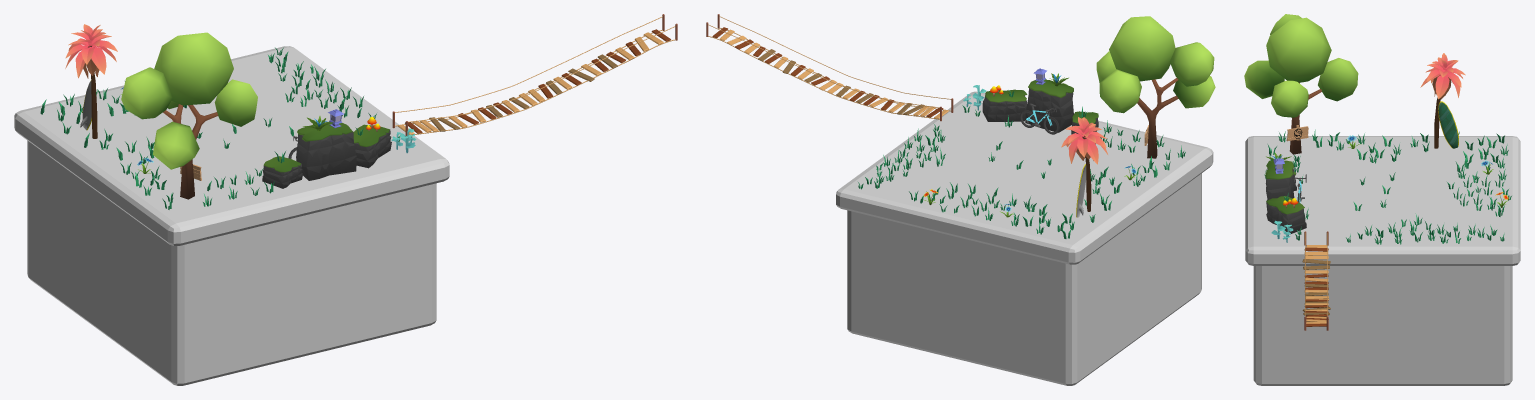
File: hobbies island.glb
3 renders of one model, left to right at view 1: azimuth 30°, elevation 25°; view 2: azimuth 150°, elevation 25°; view 3: azimuth 270°, elevation 25°, orthographic. The views are drawn at different scales.
Parts seen in each view (by area): view 1: Hobbys island, TreeR1_GRADIENT_0, ClifBg2_GRADIENT_0, TreeDC_GRADIENT_0, ClifBg2_GRADIENT_0.002, ClifBg2_GRADIENT_0.001, BezierCurve.002; view 2: Hobbys island, TreeR1_GRADIENT_0, ClifBg2_GRADIENT_0, TreeDC_GRADIENT_0, ClifBg2_GRADIENT_0.002, BezierCurve.002, Object_2; view 3: Hobbys island, TreeR1_GRADIENT_0, TreeDC_GRADIENT_0, ClifBg2_GRADIENT_0.002, ClifBg2_GRADIENT_0, Cube.002_prancha2_0, Petit panneau.004.
Part boxes in pixels (left/top/right/bottom): Hobbys island: left=14, top=46, right=449, bottom=385; TreeR1_GRADIENT_0: left=121, top=32, right=257, bottom=199; ClifBg2_GRADIENT_0: left=296, top=121, right=356, bottom=180; TreeDC_GRADIENT_0: left=65, top=24, right=117, bottom=138; ClifBg2_GRADIENT_0.002: left=353, top=124, right=391, bottom=168; ClifBg2_GRADIENT_0.001: left=262, top=156, right=302, bottom=188; BezierCurve.002: left=395, top=16, right=675, bottom=122; Hobbys island: left=836, top=91, right=1213, bottom=385; TreeR1_GRADIENT_0: left=1096, top=16, right=1215, bottom=158; ClifBg2_GRADIENT_0: left=1025, top=79, right=1073, bottom=132; TreeDC_GRADIENT_0: left=1061, top=117, right=1107, bottom=211; ClifBg2_GRADIENT_0.002: left=982, top=89, right=1027, bottom=121; BezierCurve.002: left=708, top=16, right=951, bottom=107; Object_2: left=1020, top=103, right=1059, bottom=134; Hobbys island: left=1245, top=136, right=1520, bottom=385; TreeR1_GRADIENT_0: left=1244, top=14, right=1358, bottom=154; TreeDC_GRADIENT_0: left=1420, top=53, right=1465, bottom=148; ClifBg2_GRADIENT_0.002: left=1266, top=196, right=1306, bottom=233; ClifBg2_GRADIENT_0: left=1265, top=160, right=1294, bottom=210; Cube.002_prancha2_0: left=1438, top=101, right=1458, bottom=148; Petit panneau.004: left=1286, top=125, right=1308, bottom=141.
Size of the model in its own units: 72.07 by 39.79 by 36.15.
15 materials, 3 textured.
